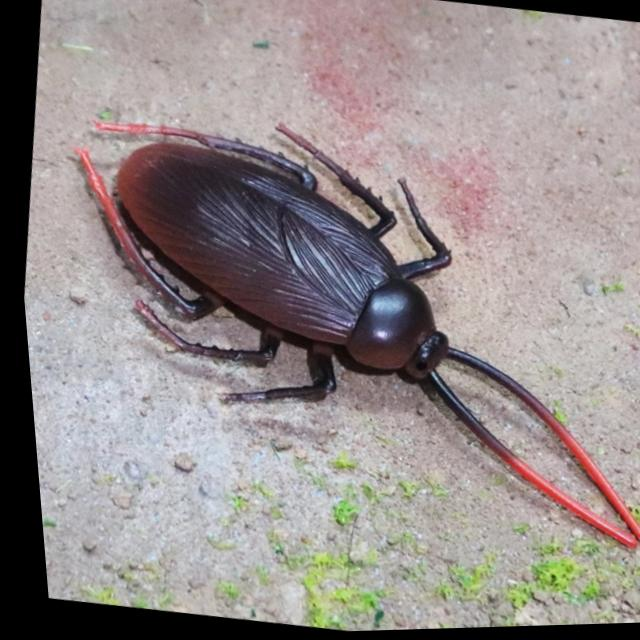Cockroach: (5, 65, 640, 575)
